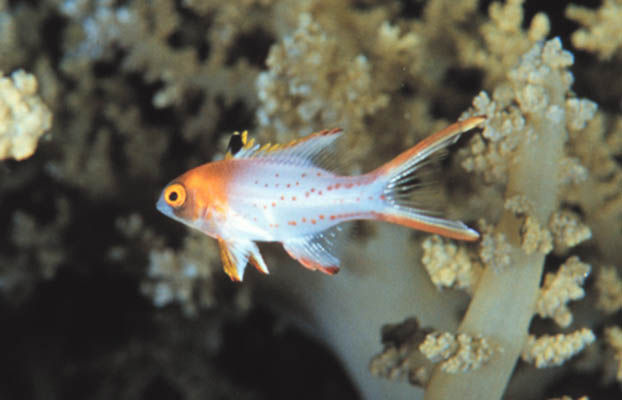fish: (155, 114, 488, 281)
